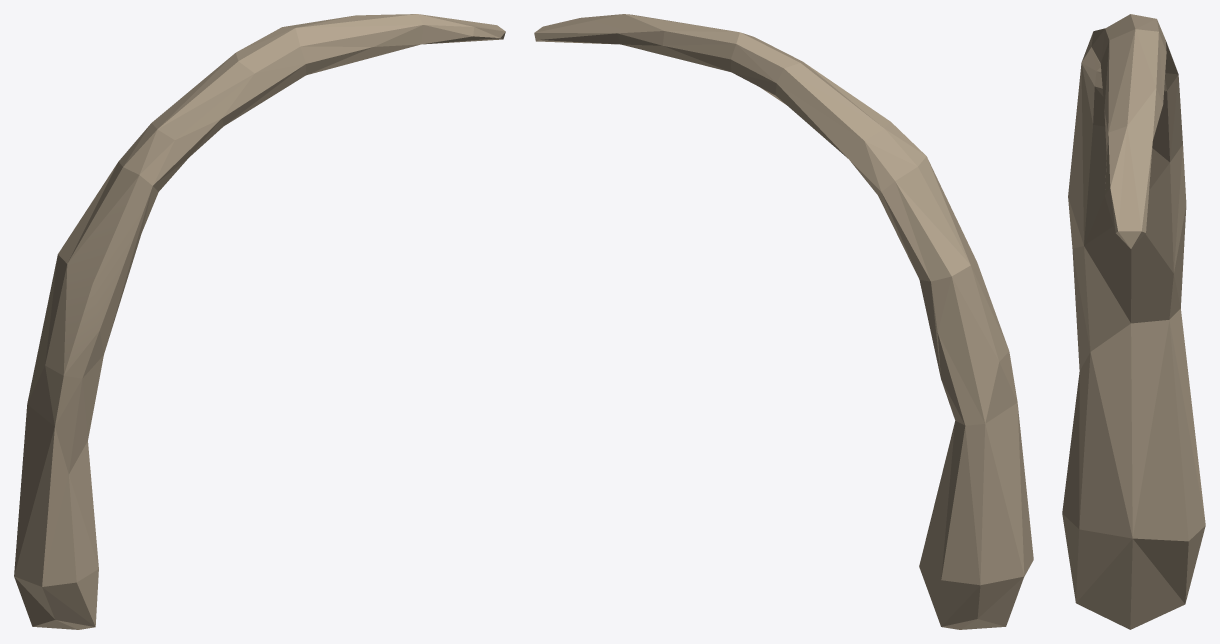
File: pit_rib.gltf
The picture shows the model from 3 angles, left to right: view 1: azimuth 30°, elevation 25°; view 2: azimuth 150°, elevation 25°; view 3: azimuth 270°, elevation 25°; orthographic projection. The views are drawn at different scales.
Visible parts, largest first — view 1: pit_rib; view 2: pit_rib; view 3: pit_rib.
Boxes of the visible parts, bbox=[...] form: pit_rib: bbox=[14, 14, 505, 629]; pit_rib: bbox=[534, 14, 1033, 629]; pit_rib: bbox=[1062, 14, 1205, 629].
Bounding box in the file's own units: 22.74 × 24.29 × 4.23.
1 material, 1 textured.
